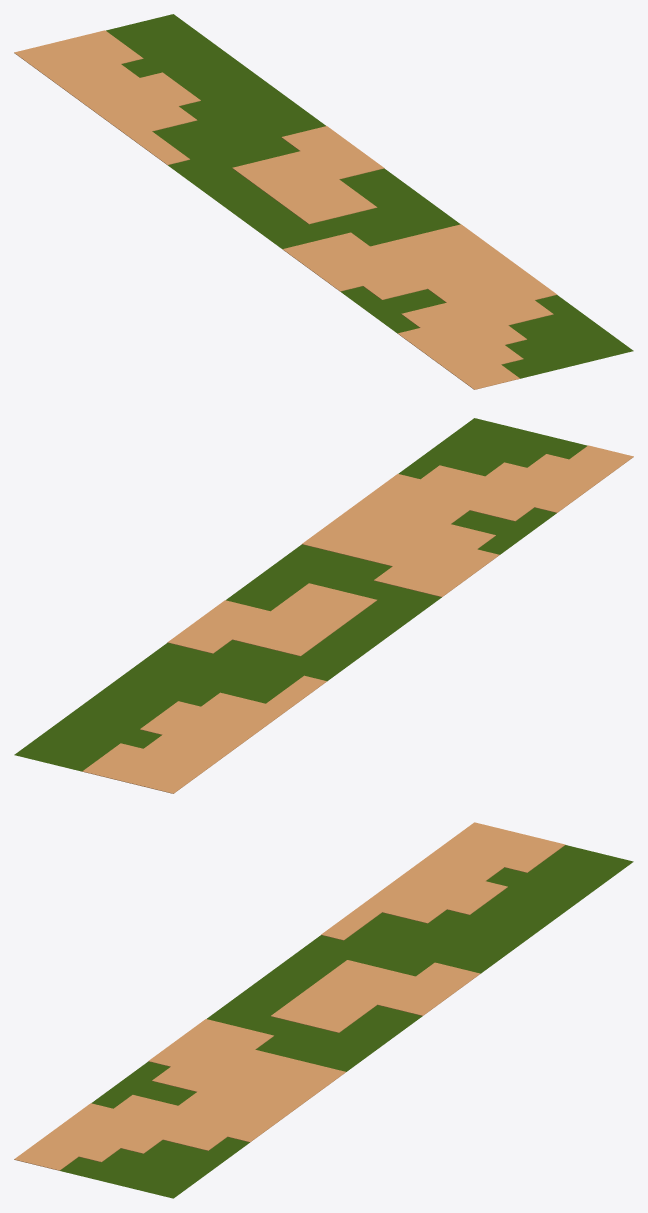
The model's file is Platform2.glb.
3 renders of one model, top to bottom at view 1: azimuth 30°, elevation 25°; view 2: azimuth 150°, elevation 25°; view 3: azimuth 330°, elevation 25°, orthographic.
Visible parts, largest first — view 1: Plane.001, Plane; view 2: Plane.001, Plane; view 3: Plane.001, Plane.
Boxes of the visible parts, x1,y1,x2,y2 form: Plane.001: (14, 30, 557, 389); Plane: (106, 14, 633, 378); Plane.001: (82, 445, 633, 793); Plane: (14, 418, 587, 771); Plane.001: (14, 822, 565, 1170); Plane: (60, 845, 633, 1198).
Size of the model in its own units: 20 by 0.05 by 100.
